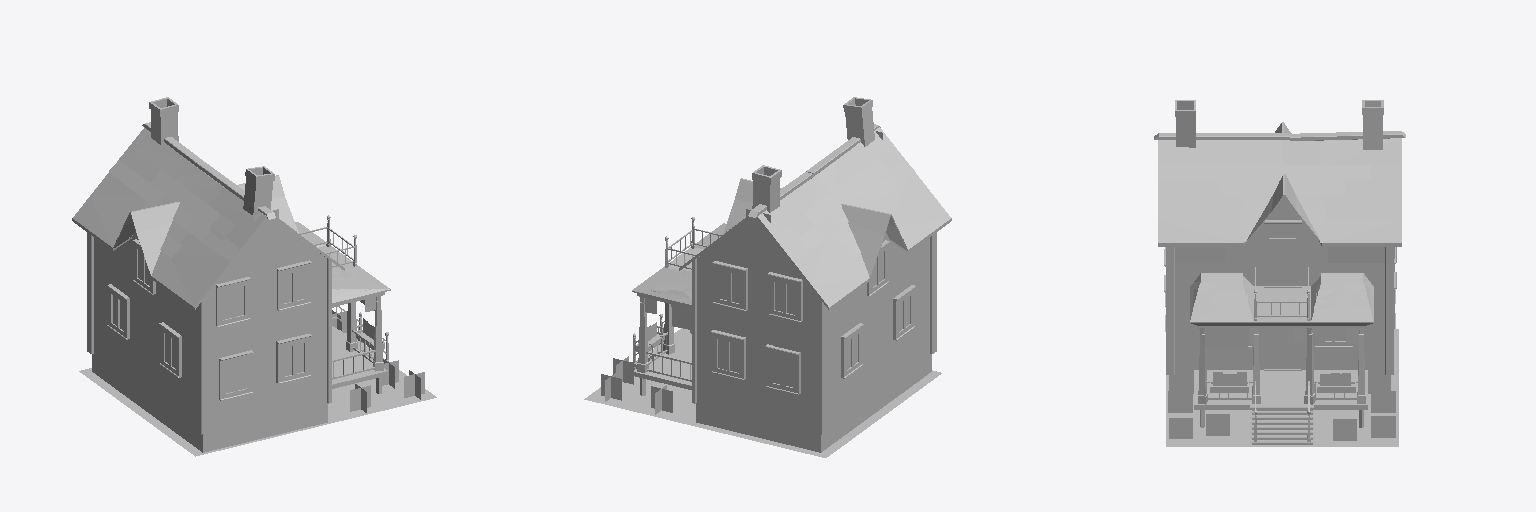
Rendered from maison_final.obj.
The picture shows the model from 3 angles: view 1: azimuth 30°, elevation 25°; view 2: azimuth 150°, elevation 25°; view 3: azimuth 270°, elevation 25°; orthographic projection.
Visible parts, largest first — view 1: group1 pCube1, group1 pCube2, pPlane2, pCube4 group1, pPlane64, pPlane1, pCube11, pCube6, pCube25, pCube3, pCube195, pPlane65 (+9 smaller); view 2: group1 pCube1, group1 pCube2, pPlane2, pCube4 group1, pPlane64, pPlane1, pCube6, pCube11, pCube25, pCube3, pCube195, pPlane65 (+10 smaller); view 3: pPlane2, pPlane61, pCube25, group1 pCube2, group1 pCube1, pPlane1, pCube3, pPlane76, pCube11, pPlane32, pCube196, pPlane31 porte1 (+14 smaller).
Boxes of the visible parts, x1=… form: group1 pCube1: x1=94, y1=284, x2=326, y2=431; group1 pCube2: x1=94, y1=223, x2=326, y2=361; pPlane2: x1=72, y1=127, x2=344, y2=310; pCube4 group1: x1=92, y1=354, x2=327, y2=452; pPlane64: x1=119, y1=146, x2=250, y2=271; pPlane1: x1=79, y1=333, x2=436, y2=456; pCube11: x1=87, y1=232, x2=331, y2=434; pCube6: x1=114, y1=175, x2=294, y2=255; pCube25: x1=295, y1=222, x2=390, y2=306; pCube3: x1=332, y1=330, x2=387, y2=388; pCube195: x1=243, y1=166, x2=274, y2=215; pPlane65: x1=109, y1=160, x2=238, y2=261; group1 pCube1: x1=697, y1=284, x2=929, y2=431; group1 pCube2: x1=697, y1=221, x2=929, y2=362; pPlane2: x1=679, y1=127, x2=951, y2=310; pCube4 group1: x1=696, y1=354, x2=931, y2=452; pPlane64: x1=773, y1=146, x2=904, y2=273; pPlane1: x1=584, y1=328, x2=941, y2=457; pCube6: x1=727, y1=178, x2=907, y2=276; pCube11: x1=692, y1=232, x2=936, y2=434; pCube25: x1=632, y1=223, x2=725, y2=308; pCube3: x1=634, y1=332, x2=691, y2=389; pCube195: x1=843, y1=97, x2=874, y2=146; pPlane65: x1=783, y1=161, x2=915, y2=260; pPlane2: x1=1158, y1=138, x2=1401, y2=246; pPlane61: x1=1158, y1=165, x2=1401, y2=242; pCube25: x1=1190, y1=276, x2=1373, y2=327; group1 pCube2: x1=1175, y1=197, x2=1384, y2=303; group1 pCube1: x1=1175, y1=304, x2=1384, y2=373; pPlane1: x1=1166, y1=329, x2=1398, y2=446; pCube3: x1=1194, y1=370, x2=1367, y2=409; pPlane76: x1=1193, y1=273, x2=1370, y2=310; pCube11: x1=1166, y1=247, x2=1393, y2=374; pPlane32: x1=1175, y1=247, x2=1384, y2=262; pCube196: x1=1154, y1=131, x2=1405, y2=140; pPlane31 porte1: x1=1269, y1=241, x2=1295, y2=280.
Size of the model in its own units: 996 by 999 by 876.